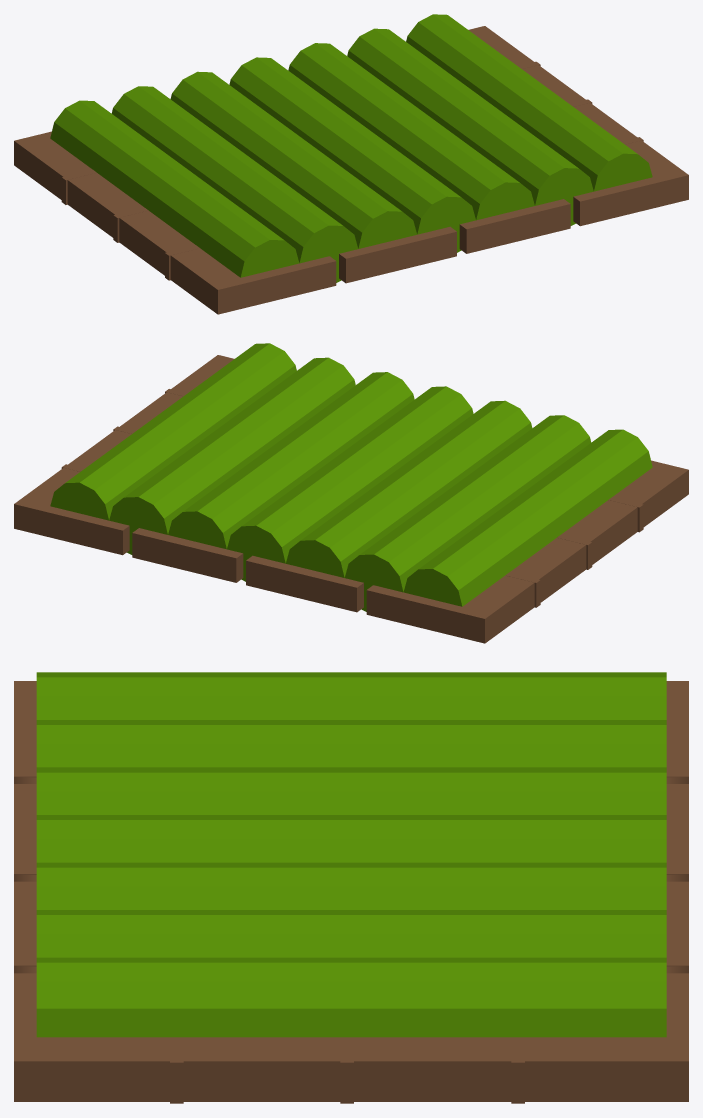
Rendered from Field.fbx.
3 renders of one model, top to bottom at view 1: azimuth 30°, elevation 25°; view 2: azimuth 150°, elevation 25°; view 3: azimuth 270°, elevation 25°, orthographic. The views are drawn at different scales.
Visible parts, largest first — view 1: Field; view 2: Field; view 3: Field.
Boxes of the visible parts, bbox=[...] form: Field: bbox=[14, 14, 688, 314]; Field: bbox=[14, 343, 688, 643]; Field: bbox=[14, 672, 688, 1103].
Size of the model in its own units: 4.03 by 0.5 by 3.
